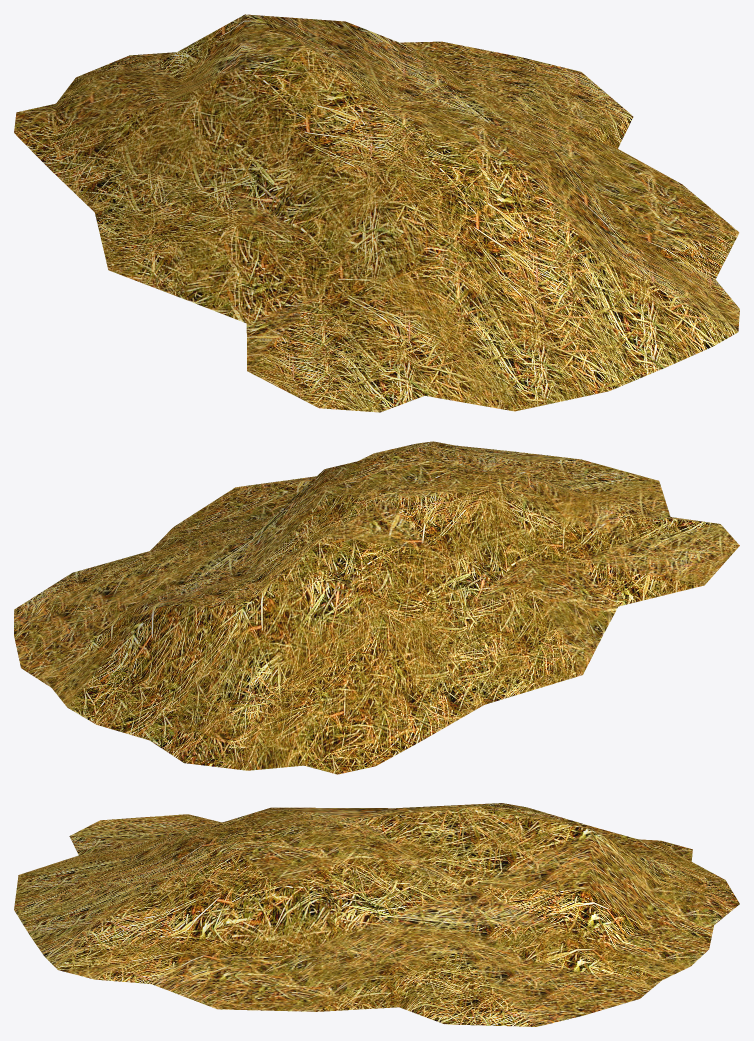
File: CellHayPile.fbx
3 renders of one model, top to bottom at view 1: azimuth 30°, elevation 25°; view 2: azimuth 150°, elevation 25°; view 3: azimuth 270°, elevation 25°, orthographic. The views are drawn at different scales.
Visible parts, largest first — view 1: HayPile:Mesh; view 2: HayPile:Mesh; view 3: HayPile:Mesh.
Part boxes in pixels (x1,y1,x2,y2): HayPile:Mesh: (14,14,739,412); HayPile:Mesh: (14,441,739,774); HayPile:Mesh: (14,803,739,1026).
Size of the model in its own units: 2.07 by 0.4551 by 2.98.
